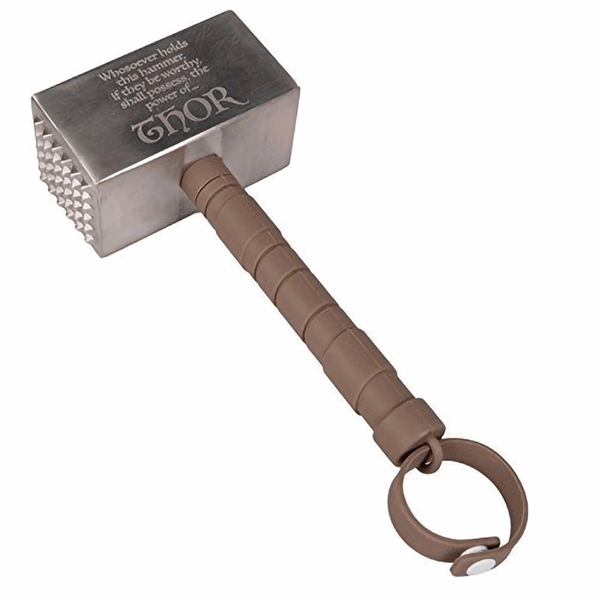THOR Hammer: (25, 5, 534, 556)
